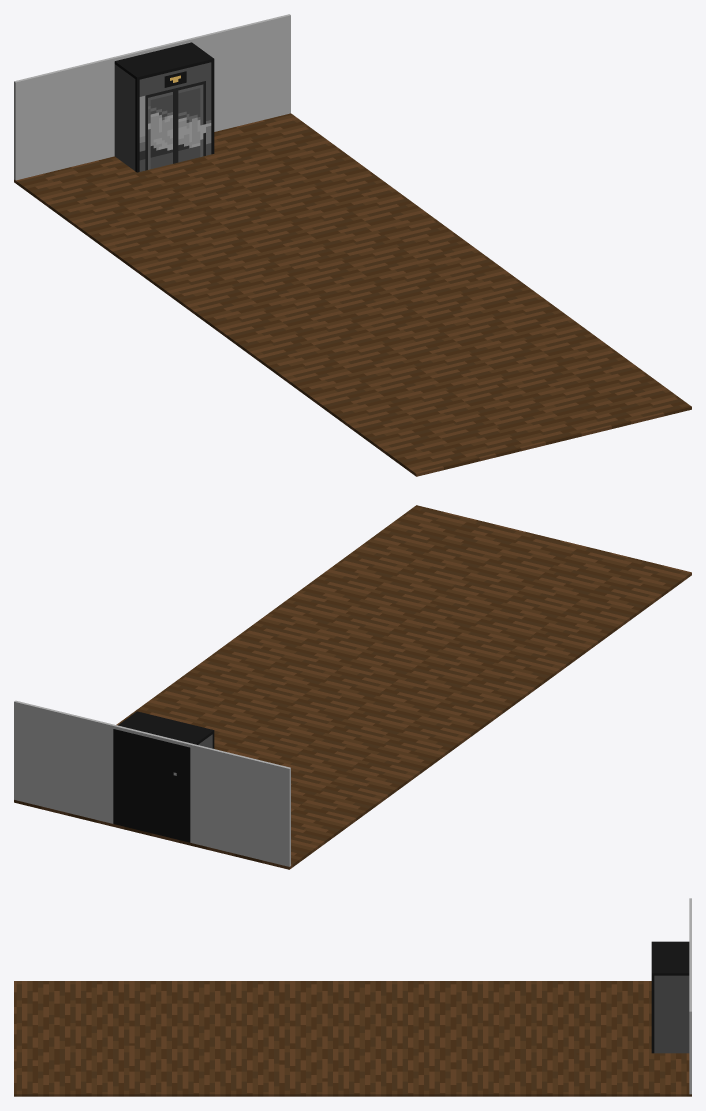
File: Couloire.obj
The picture shows the model from 3 angles, top to bottom: view 1: azimuth 30°, elevation 25°; view 2: azimuth 150°, elevation 25°; view 3: azimuth 270°, elevation 25°; orthographic projection. The views are drawn at different scales.
Bounding box in the file's own units: 10 × 3.5 × 25.3.
Materials: 1 (1 with a texture image).
